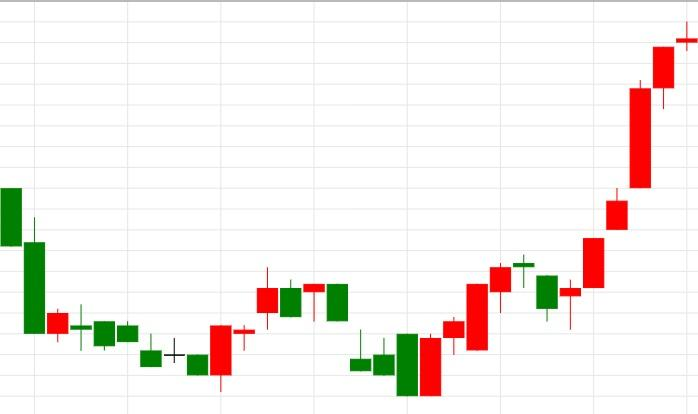bearish_engulfing_fall: (209, 267, 349, 392)
bullish_engulfing_rise: (0, 188, 233, 392)
evening_star_fall: (396, 255, 559, 396)
three_white_soldiers_rise: (512, 188, 629, 330)
